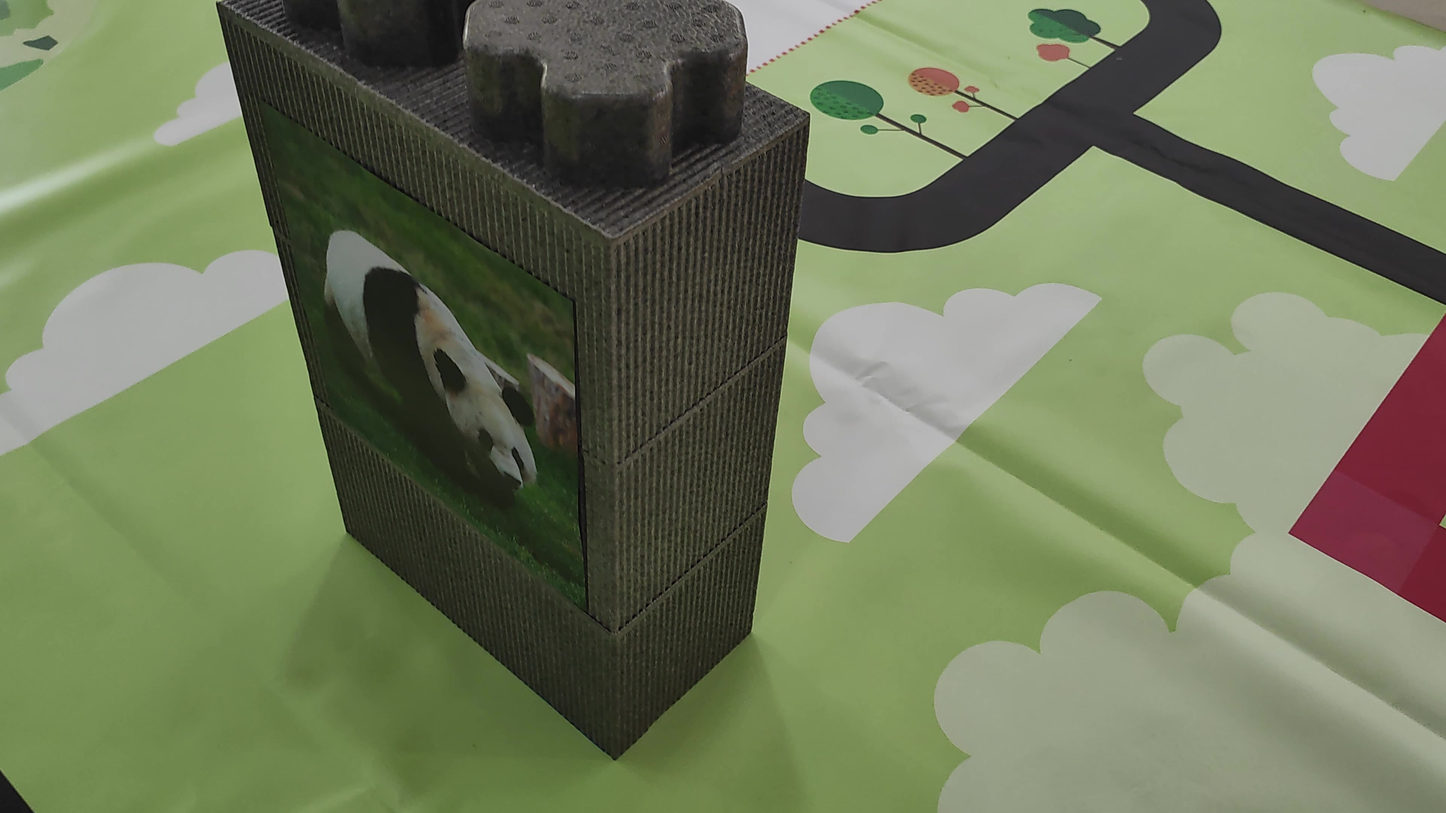panda: (287, 207, 551, 498)
